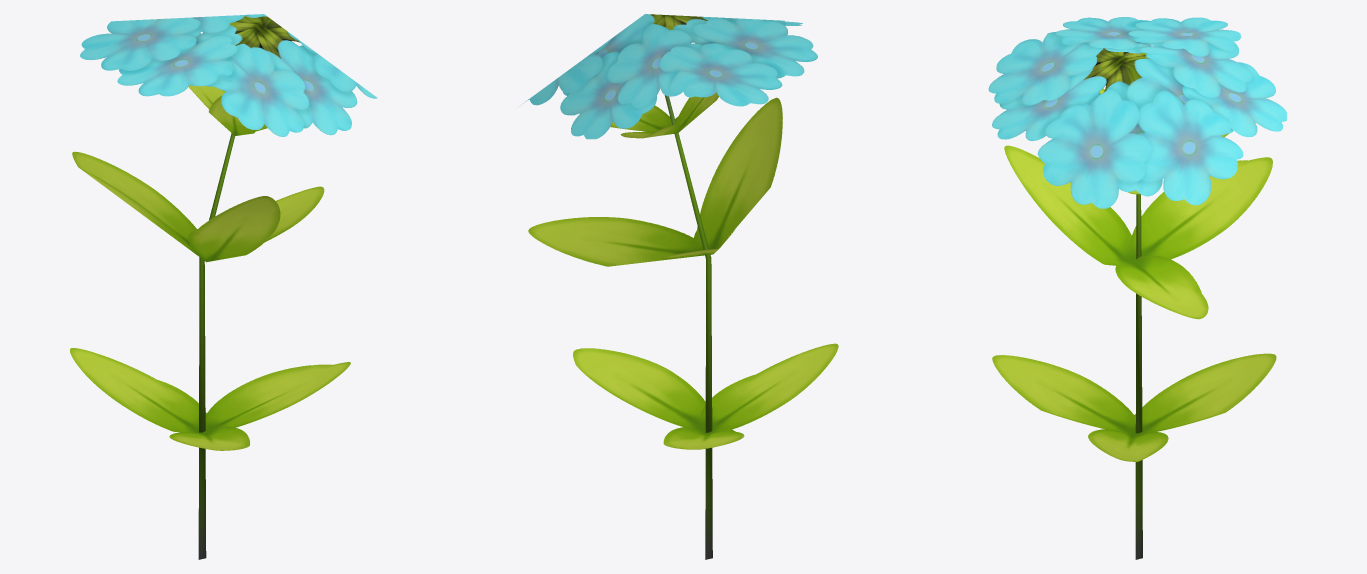
File: BlueFlower 1.fbx
3 views of the same model, side by side, from view 1: azimuth 30°, elevation 25°; view 2: azimuth 150°, elevation 25°; view 3: azimuth 270°, elevation 25° (orthographic).
Visible parts, largest first — view 1: Plane.003, Plane, Plane.001, Cylinder, Plane.002; view 2: Plane.003, Plane.001, Plane, Cylinder, Plane.002; view 3: Plane.003, Plane.001, Plane, Cylinder.
Part boxes in pixels (x1,y1,x2,y2): Plane.003: [80, 14, 377, 136]; Plane: [70, 348, 350, 450]; Plane.001: [72, 151, 324, 262]; Cylinder: [198, 133, 234, 559]; Plane.002: [188, 85, 267, 135]; Plane.003: [520, 14, 817, 139]; Plane.001: [528, 97, 782, 266]; Plane: [573, 343, 838, 449]; Cylinder: [664, 95, 712, 559]; Plane.002: [610, 92, 718, 138]; Plane.003: [988, 17, 1287, 208]; Plane.001: [1004, 145, 1272, 319]; Plane: [992, 353, 1276, 461]; Cylinder: [1135, 194, 1142, 559].
Size of the model in its own units: 74.28 by 100 by 74.28.
